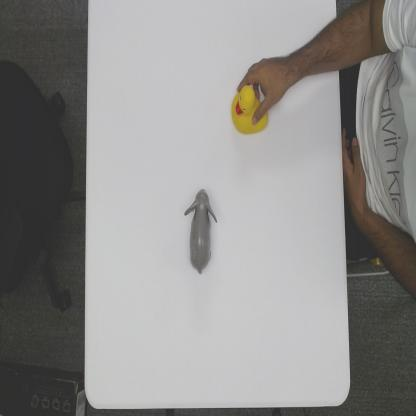Arm: (289, 16, 339, 90)
Duck: (231, 82, 270, 134)
Elephant: (184, 188, 217, 276)
Hand: (236, 56, 290, 118)
